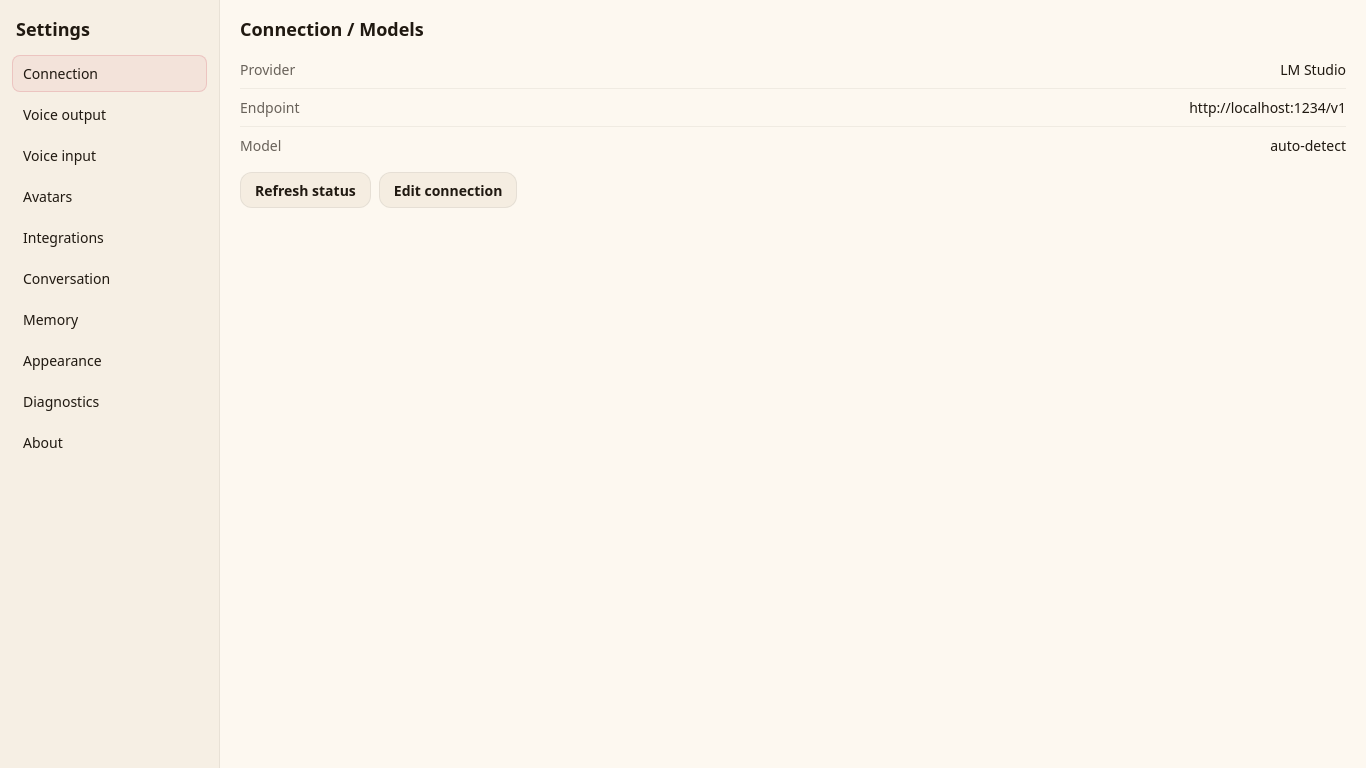
Settings TTS section › shows persisted AEC metadata in voice input Settings after a Chat capture
The image size is (1366, 768).
Click the button "Voice input" at (110, 156), box [12,137,207,174]
(page scrolled)
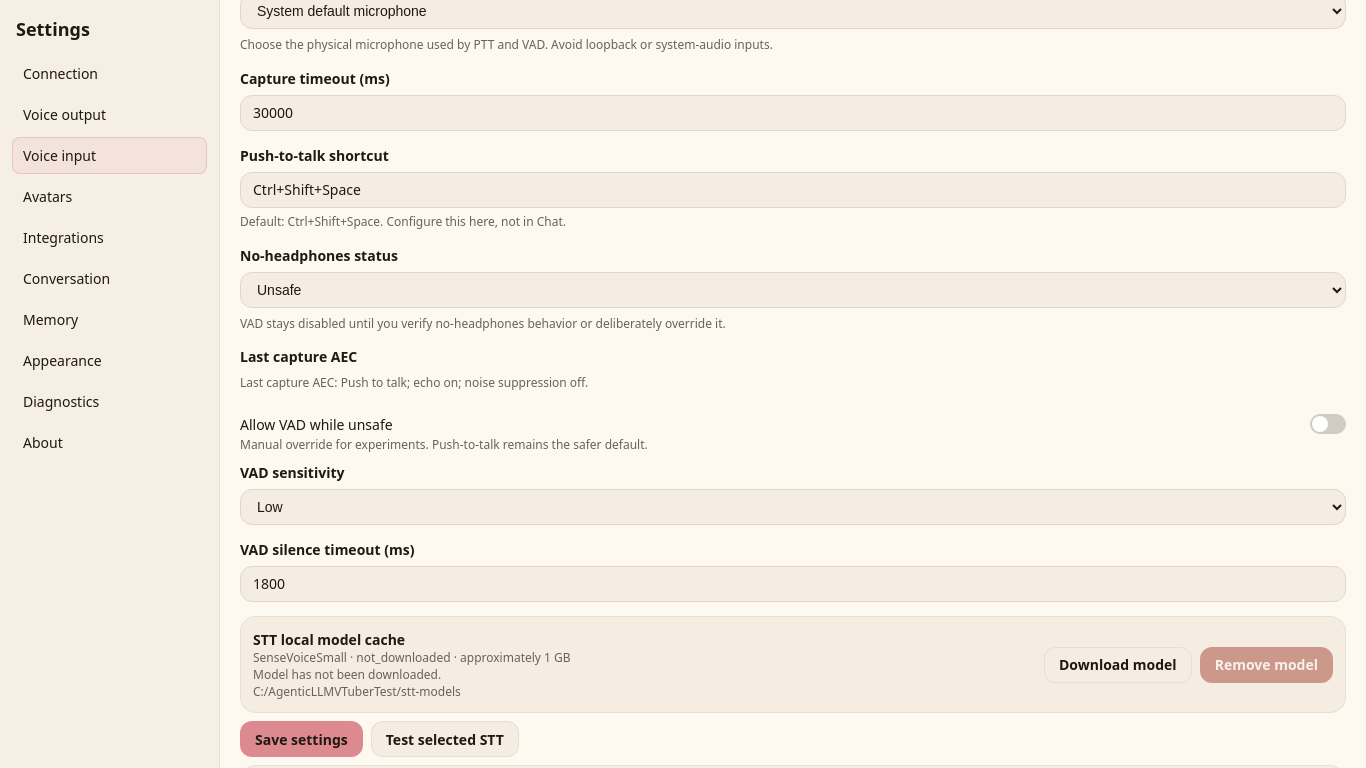
expect the text "Last capture AEC" is shown: met, box [240,347,357,366]
expect the text "Push to talk; echo on; noise suppression off" is shown: met, box [240,374,588,391]
